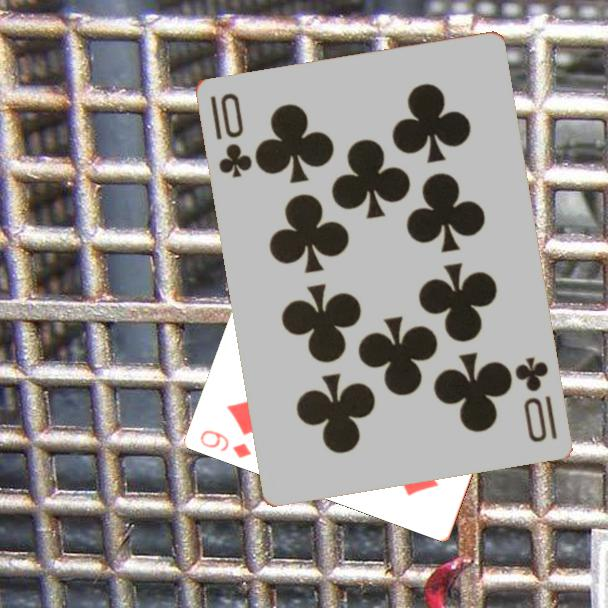c10: (511, 353, 560, 445), (206, 89, 254, 181)
d09: (197, 426, 255, 461)
